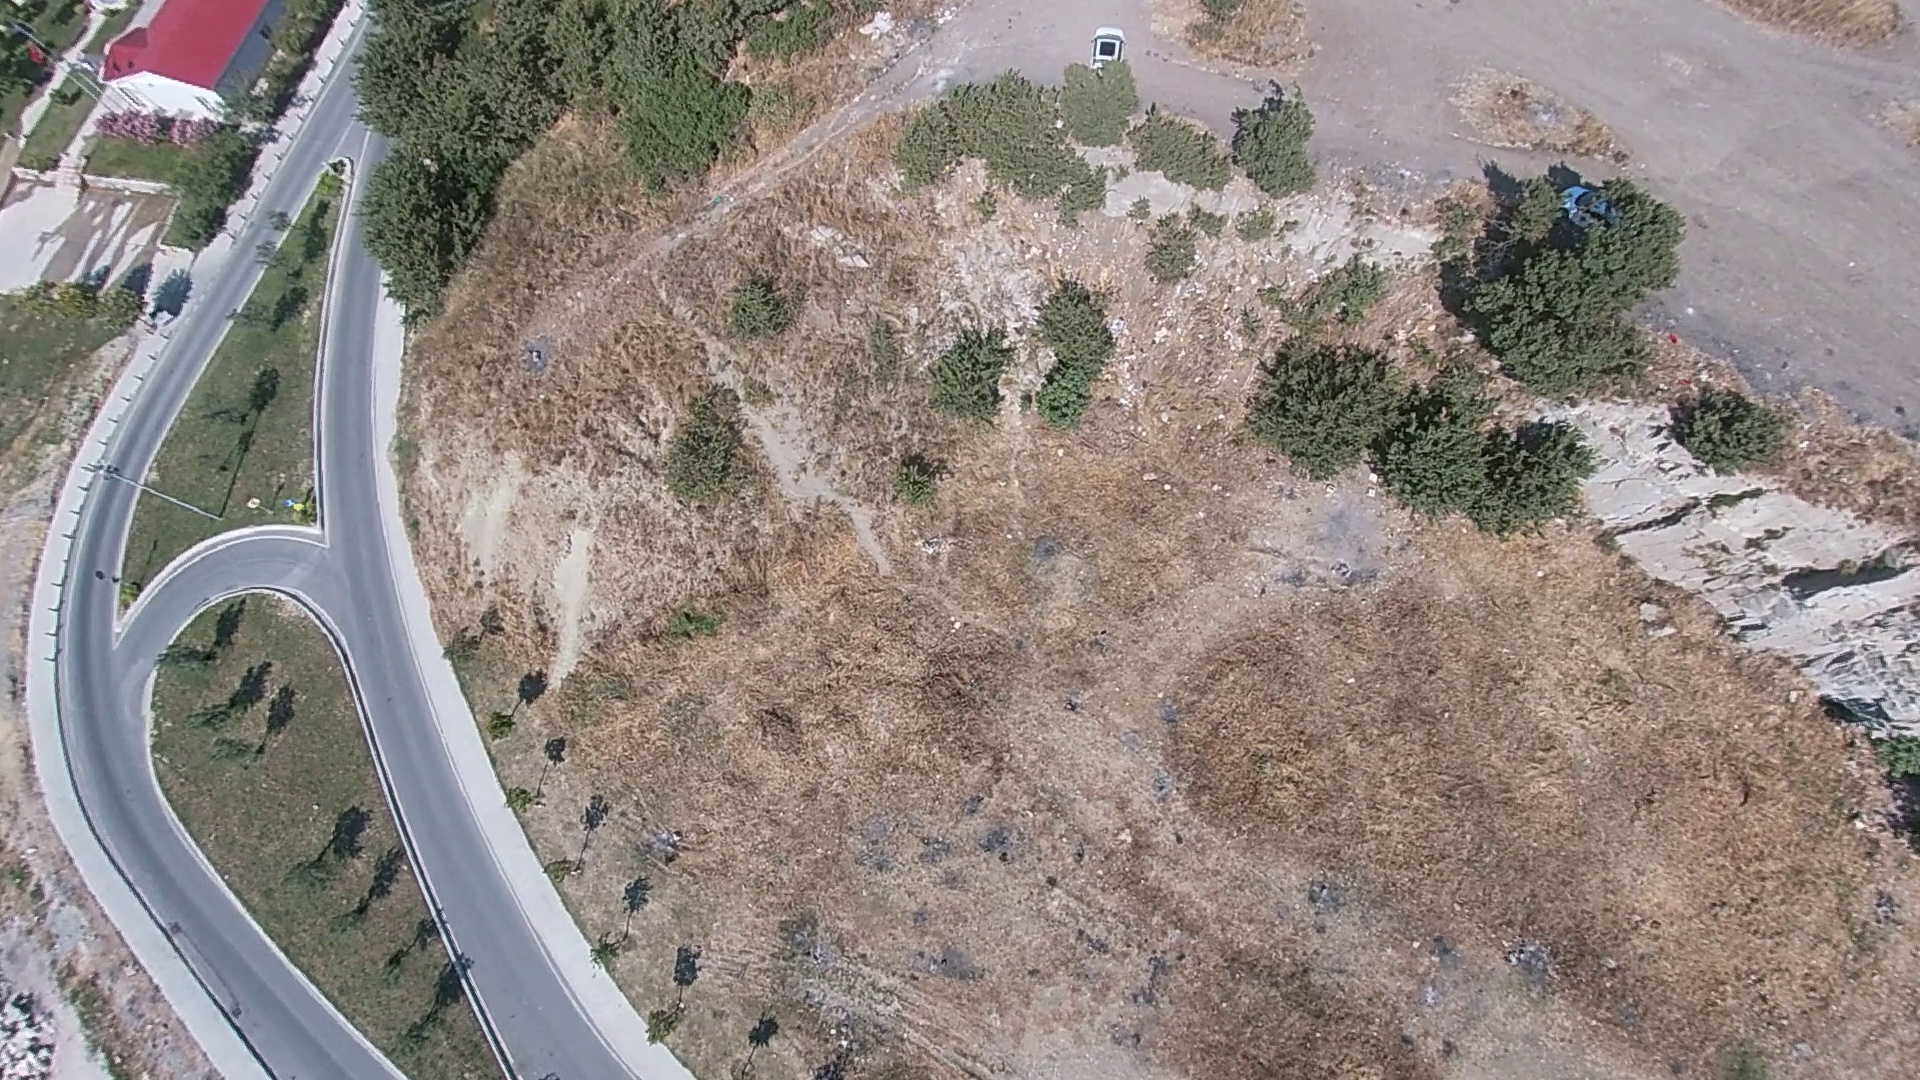araba: (1551, 181, 1638, 244)
